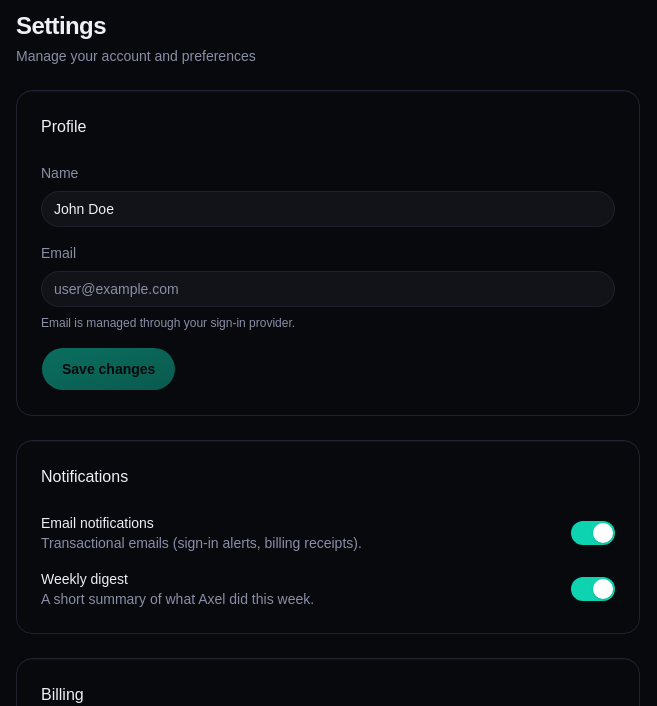
Test: Settings › profile section › shows a save error and keeps the input editable on failure
The width and height of the screenshot is (657, 706).
Replace the text in the field labelled "Name" with "Ada" at (328, 209), box [41,191,615,227]
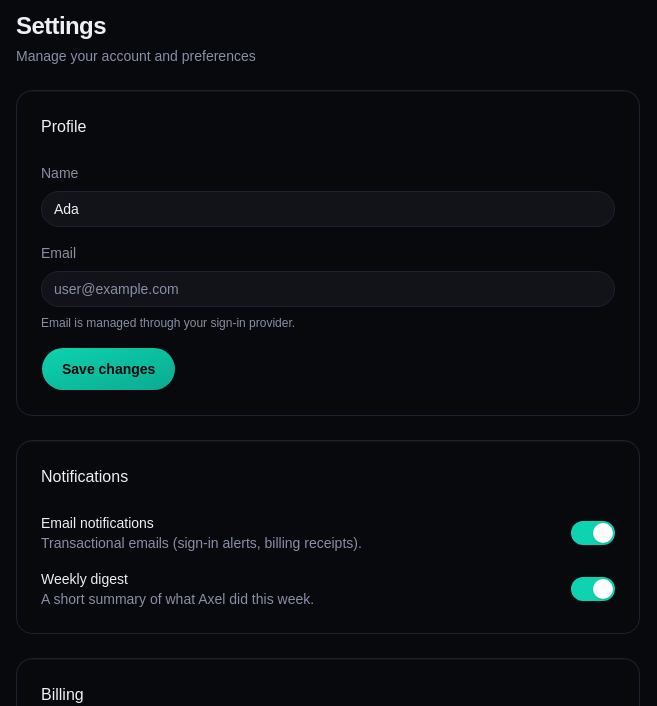
Click the button "Save changes".
click(109, 369)  # box [41,347,176,391]
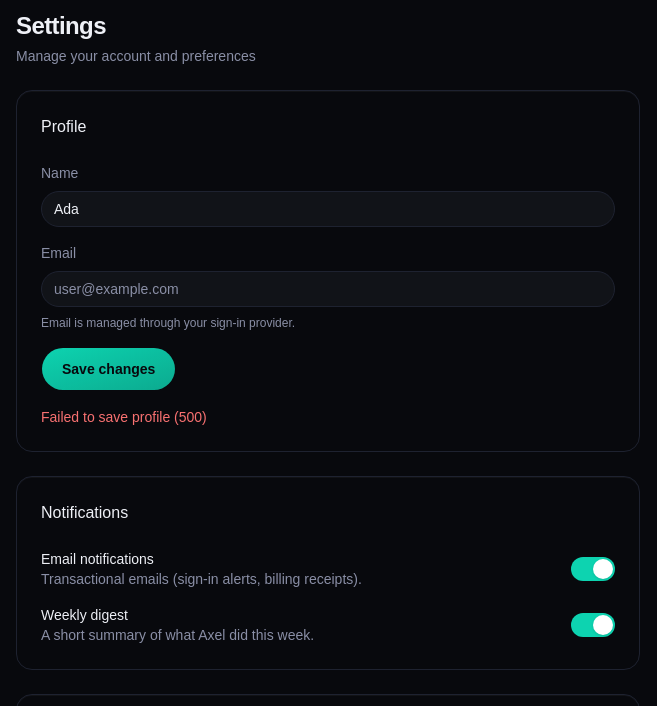
Expected: the button "Save changes" is enabled, [41,347,176,391]
Expected: the text "Failed to save profile (500)" is shown, [41,409,207,425]
